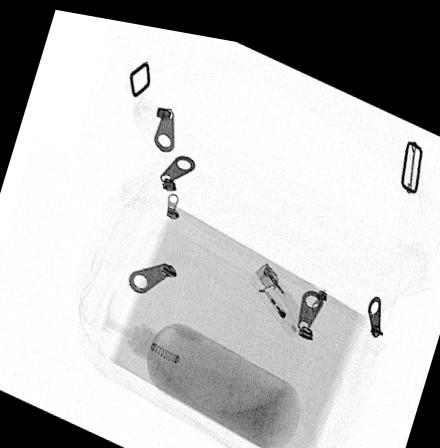Lighter: (246, 251, 310, 328)
